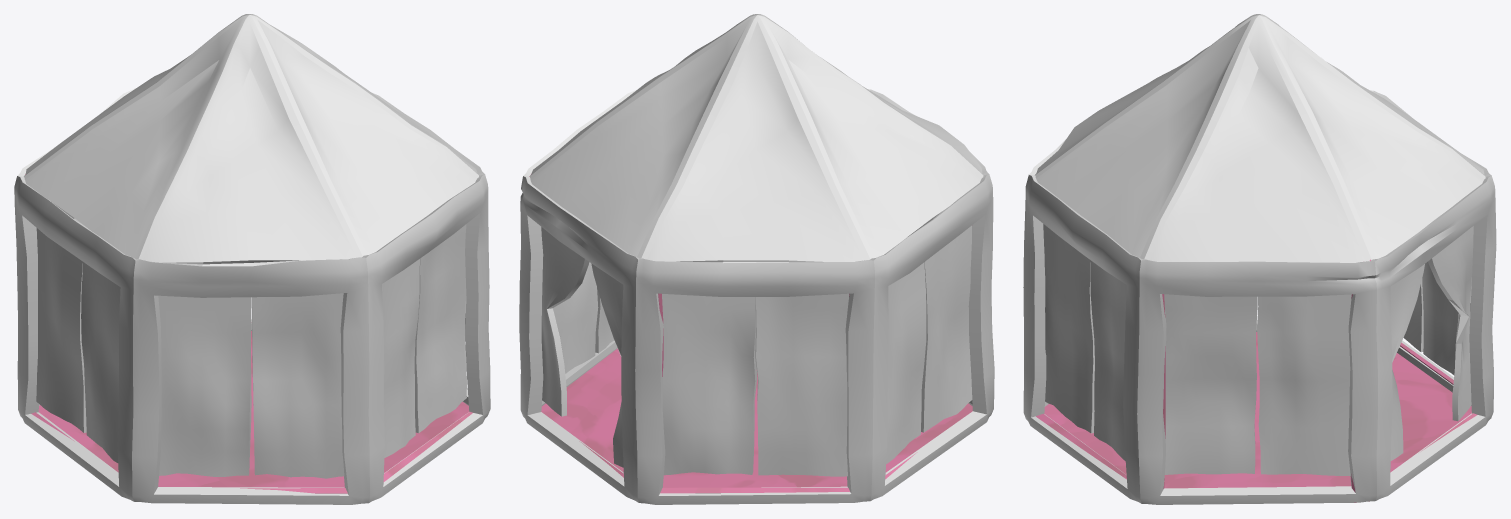
Rendered from tent_model.fbx.
3 views of the same model, side by side, from view 1: azimuth 30°, elevation 25°; view 2: azimuth 150°, elevation 25°; view 3: azimuth 270°, elevation 25° (orthographic).
Visible parts, largest first — view 1: tent_base, drapes, tent_base.001; view 2: tent_base, drapes, tent_base.001; view 3: tent_base, drapes, tent_base.001.
Part boxes in pixels (x1,y1,x2,y2): tent_base: [14, 14, 490, 504]; drapes: [36, 224, 466, 478]; tent_base.001: [38, 331, 469, 487]; tent_base: [519, 14, 994, 504]; drapes: [541, 225, 972, 476]; tent_base.001: [541, 348, 972, 487]; tent_base: [1023, 14, 1496, 504]; drapes: [1043, 224, 1473, 475]; tent_base.001: [1044, 332, 1471, 502].
Bounding box in the file's own units: 0.6825 × 0.7228 × 0.768.
3 materials, 1 textured.
